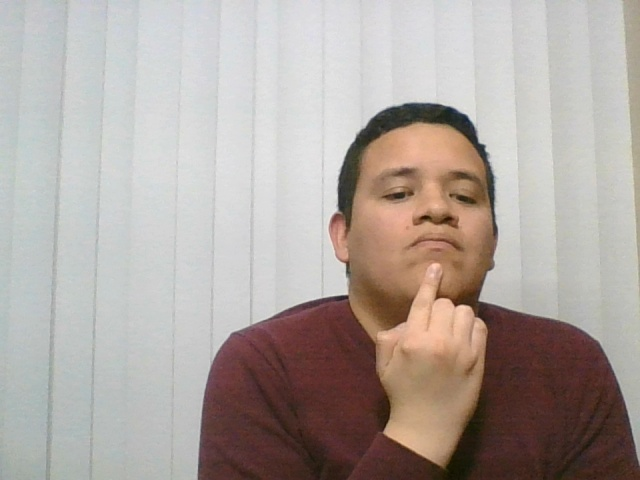Red: (326, 240, 554, 448)
